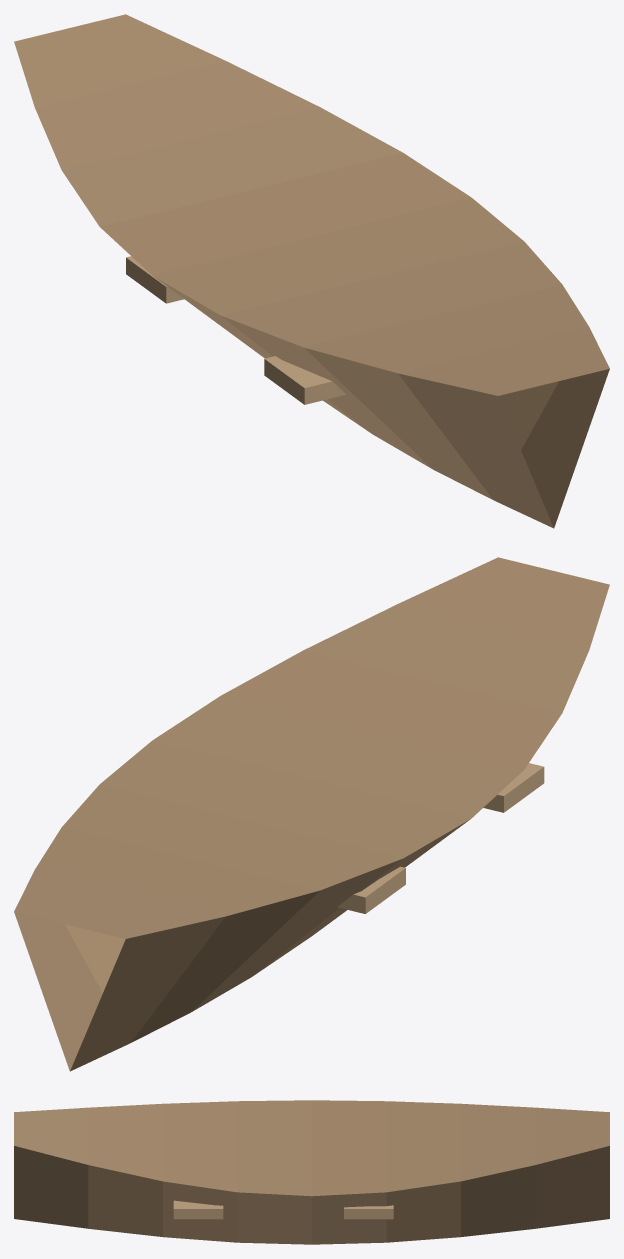
The model's file is boat_wood_01.glb.
3 renders of one model, top to bottom at view 1: azimuth 30°, elevation 25°; view 2: azimuth 150°, elevation 25°; view 3: azimuth 270°, elevation 25°, orthographic. The views are drawn at different scales.
Visible parts, largest first — view 1: Boat_Wood_01; view 2: Boat_Wood_01; view 3: Boat_Wood_01.
Part boxes in pixels (x1=…): Boat_Wood_01: x1=14, y1=14, x2=609, y2=528; Boat_Wood_01: x1=14, y1=557, x2=609, y2=1071; Boat_Wood_01: x1=14, y1=1100, x2=609, y2=1244.
Size of the model in its own units: 1.6 by 0.9 by 4.2.
